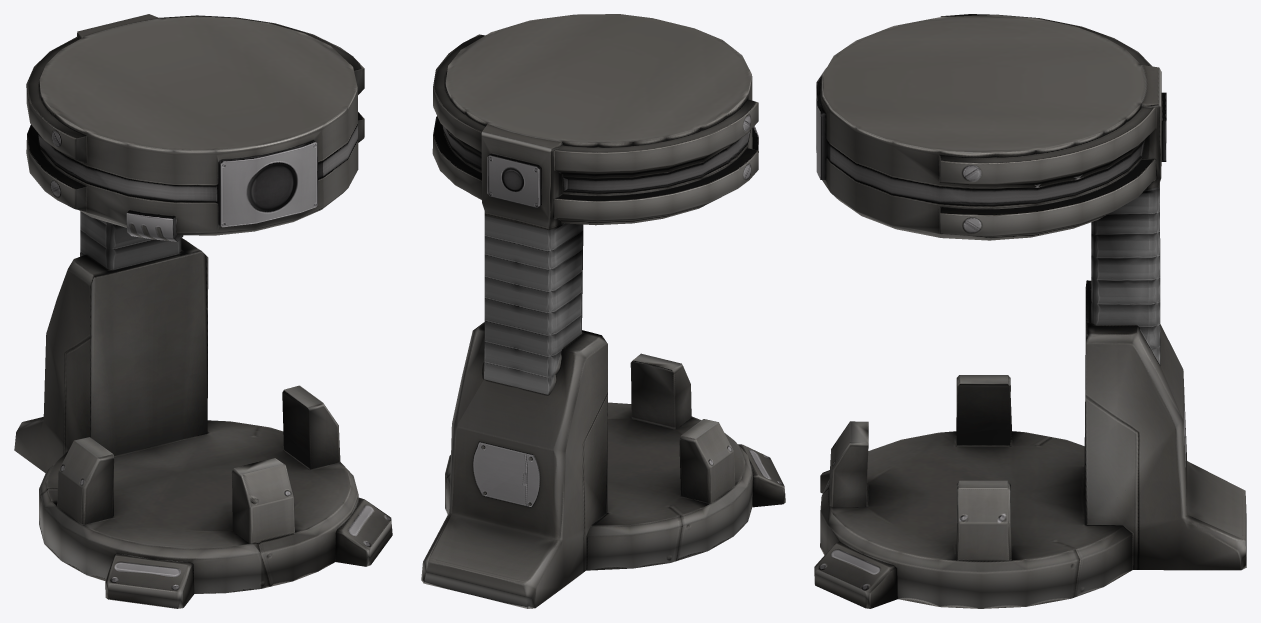
The model's file is Incubateur.fbx.
3 renders of one model, left to right at view 1: azimuth 30°, elevation 25°; view 2: azimuth 150°, elevation 25°; view 3: azimuth 270°, elevation 25°, orthographic. The views are drawn at different scales.
Parts seen in each view (by area): view 1: Low_Cryo:RetopoGroup1; view 2: Low_Cryo:RetopoGroup1; view 3: Low_Cryo:RetopoGroup1.
Part boxes in pixels (x1,y1,x2,y2): Low_Cryo:RetopoGroup1: [14, 14, 392, 608]; Low_Cryo:RetopoGroup1: [421, 14, 785, 608]; Low_Cryo:RetopoGroup1: [814, 14, 1246, 608].
Size of the model in its own units: 215 by 306 by 262.
